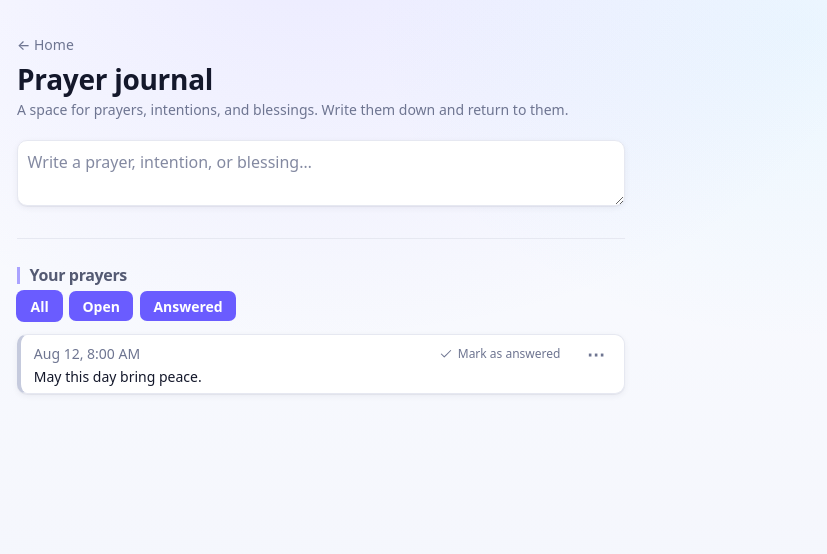
Scenario: PrayerPage › editing a prayer saves the new body
Expected: the text "May this day bring peace." is shown, [34, 367, 202, 386]
Note: Open the ⋯ menu, then Edit.
Click the button named "prayer actions" at (596, 354), box [580, 345, 611, 363]
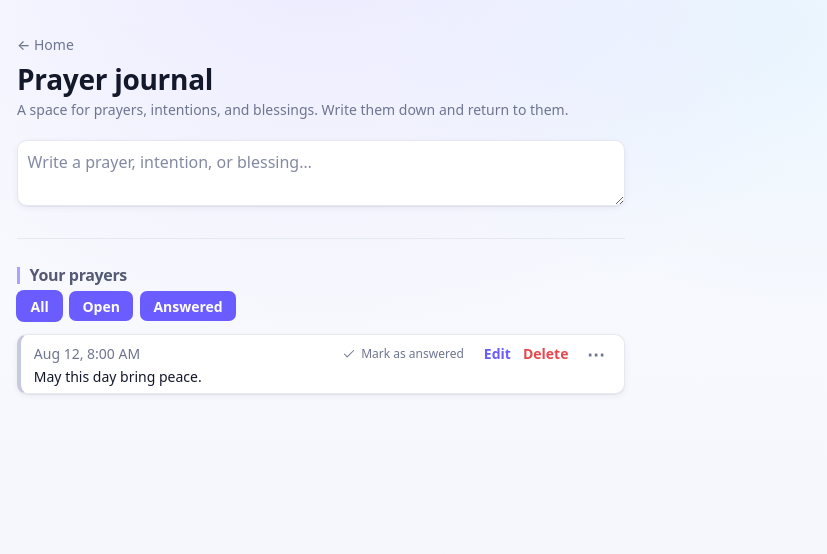
Click the button "Edit" at (497, 354), box [484, 343, 511, 364]
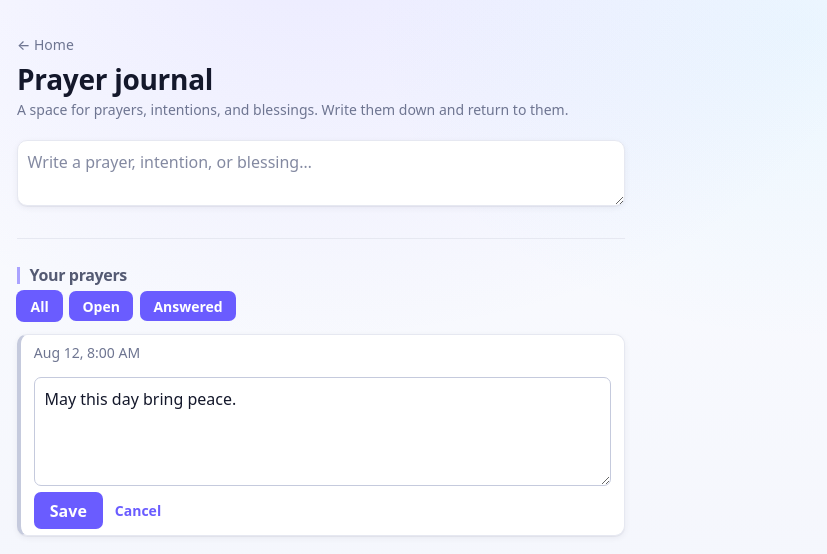
Replace the text in the text box named "edit prayer" with "Edited prayer." at (322, 432), box [34, 377, 611, 486]
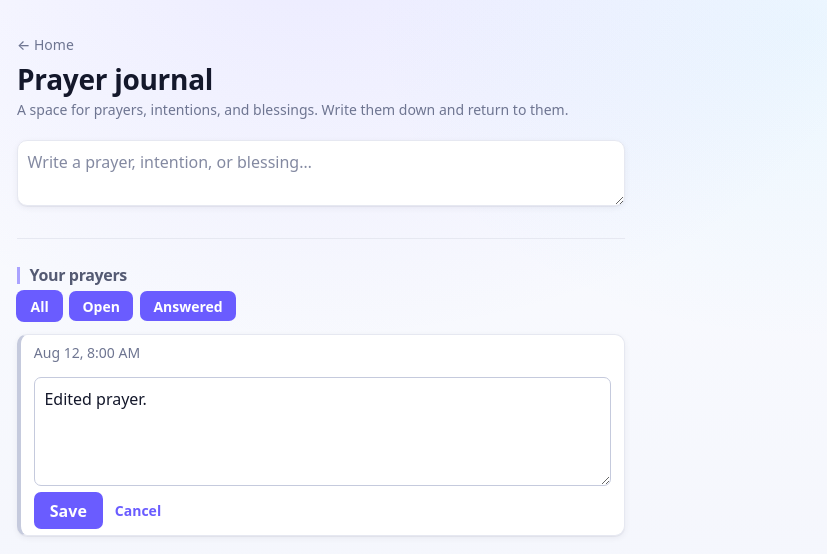
Click the button "Save" at (68, 511), box [34, 492, 103, 529]
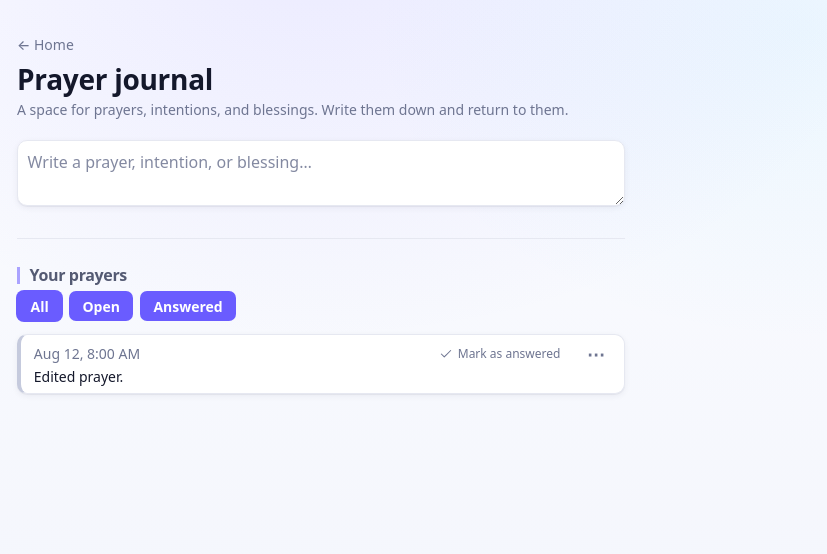
Result: the text "Edited prayer." is shown at [34, 367, 123, 386]
